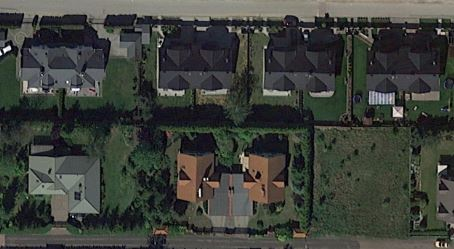family house: (26, 142, 102, 216)
terrace house: (176, 148, 286, 217), (17, 43, 106, 92), (155, 42, 235, 91), (259, 45, 339, 94), (363, 45, 443, 94)
